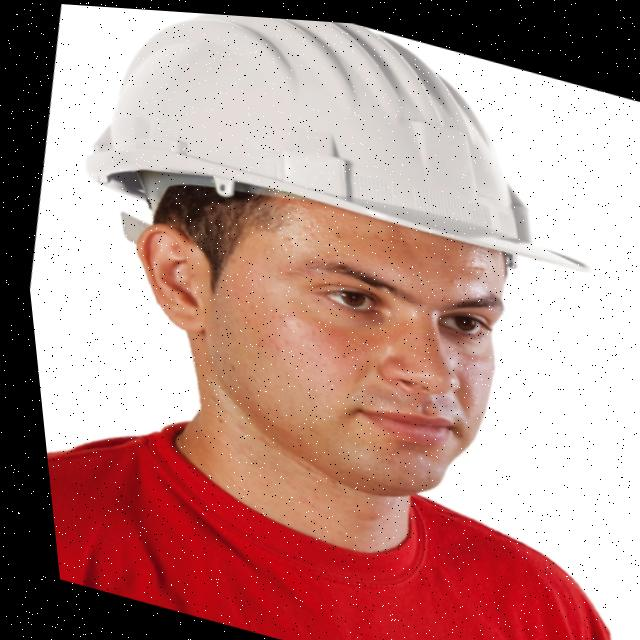illegal_helmet: (5, 0, 640, 550)
